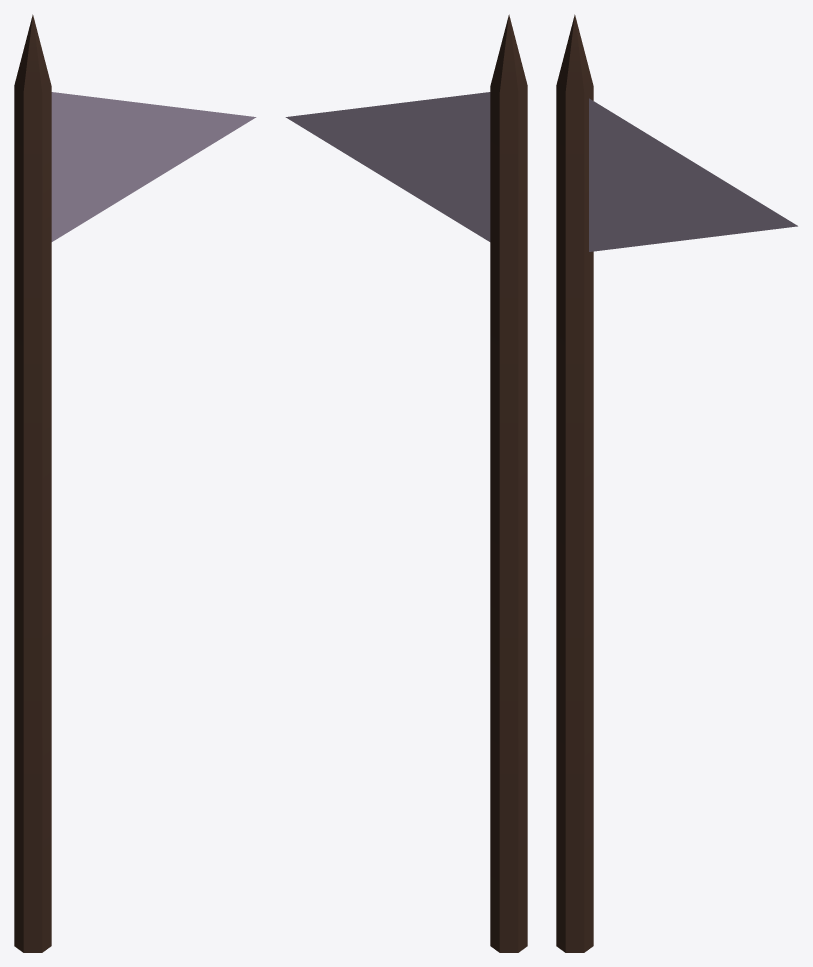
File: flag-2.fbx
3 renders of one model, left to right at view 1: azimuth 30°, elevation 25°; view 2: azimuth 150°, elevation 25°; view 3: azimuth 330°, elevation 25°, orthographic.
Visible parts, largest first — view 1: flag-2; view 2: flag-2; view 3: flag-2.
Part boxes in pixels (x1,y1,x2,y2): flag-2: [14, 14, 256, 952]; flag-2: [285, 14, 527, 952]; flag-2: [556, 14, 797, 952].
Size of the model in its own units: 69.39 by 260 by 9.41.
